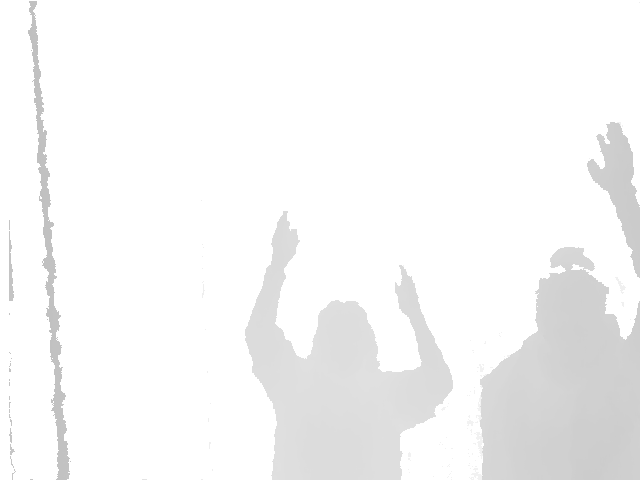hand: (587, 122, 635, 189), (269, 211, 300, 269), (394, 266, 422, 315)
head: (535, 248, 608, 345), (310, 300, 377, 373)
person: (477, 122, 640, 480), (243, 211, 455, 479)
